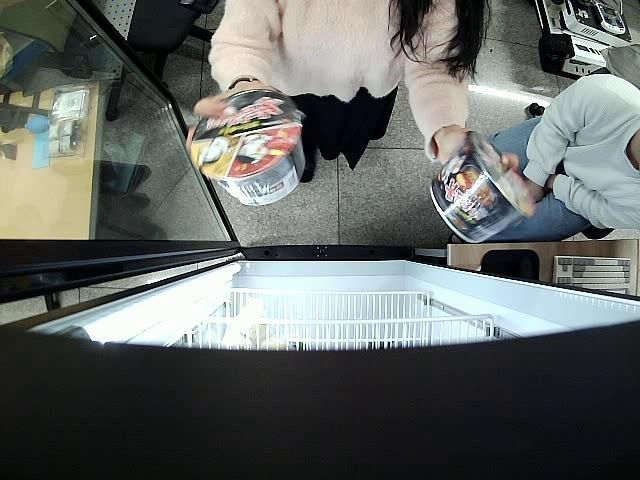07_buldak_L: (189, 88, 305, 206), (429, 131, 534, 241)
